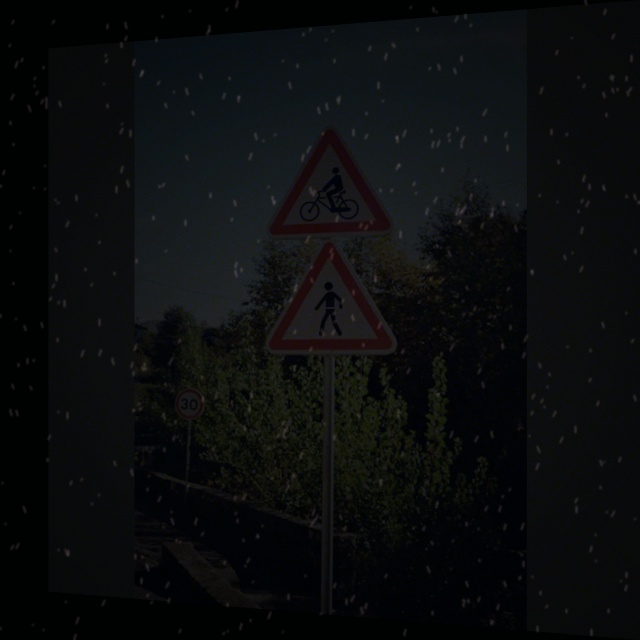Cycle_Crossing: (273, 125, 397, 240)
